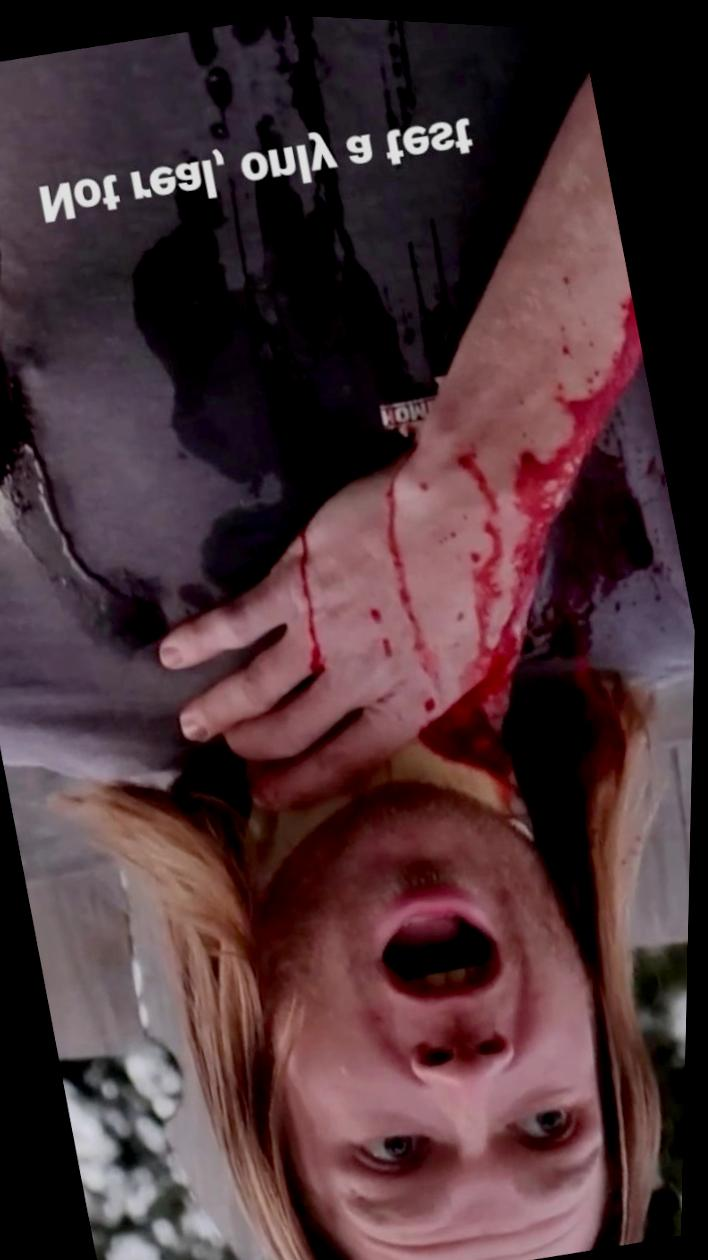Fire: (460, 286, 645, 714), (530, 438, 656, 651), (379, 450, 441, 675), (422, 663, 516, 777), (300, 519, 328, 671)
